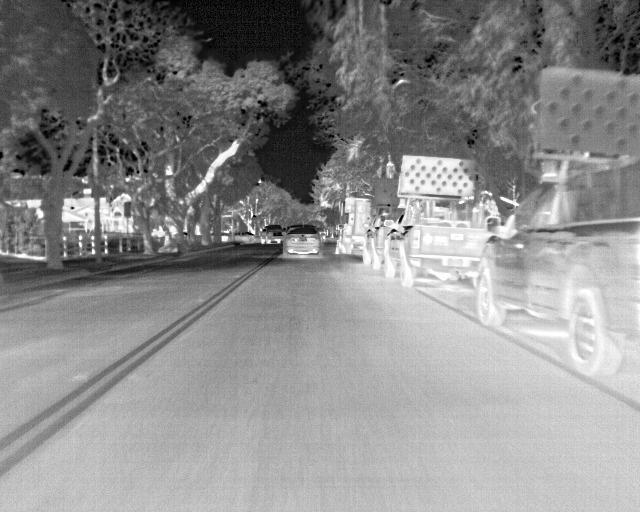car: (476, 65, 639, 375), (384, 152, 482, 288), (365, 211, 391, 269), (284, 225, 321, 256), (234, 230, 260, 244), (266, 229, 280, 242)
